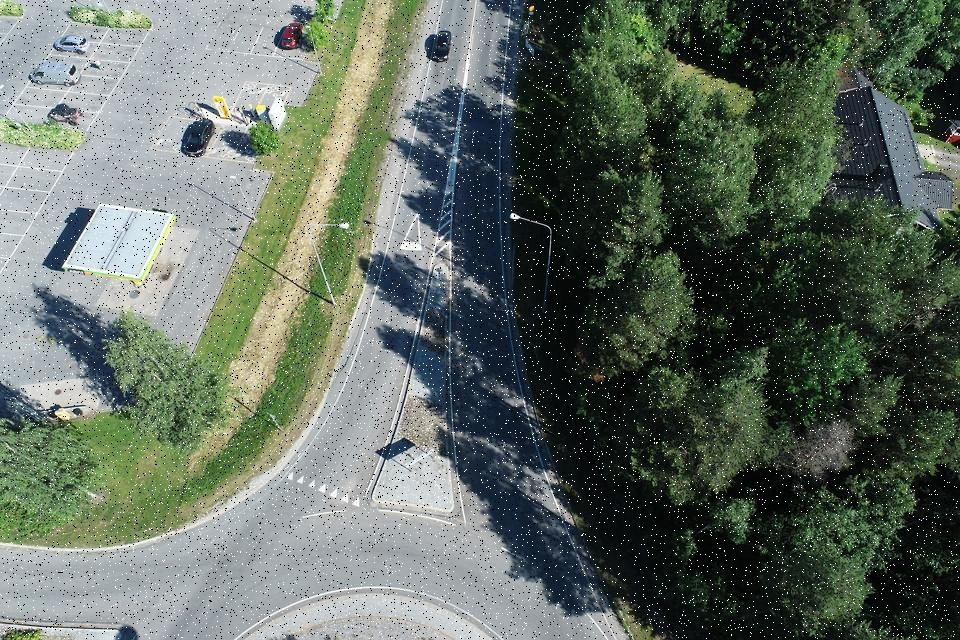roundabout: (126, 461, 667, 640)
